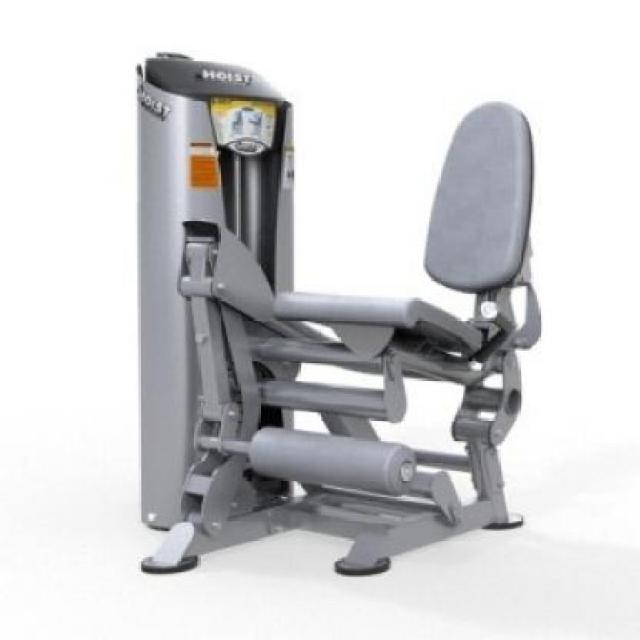leg extension: (105, 40, 548, 595)
